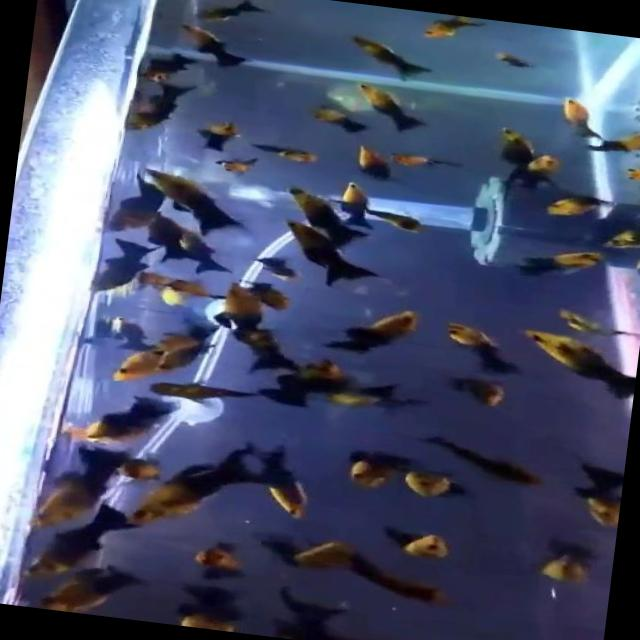PlatyFish: (114, 420, 308, 547), (506, 321, 640, 410), (269, 215, 396, 296)
